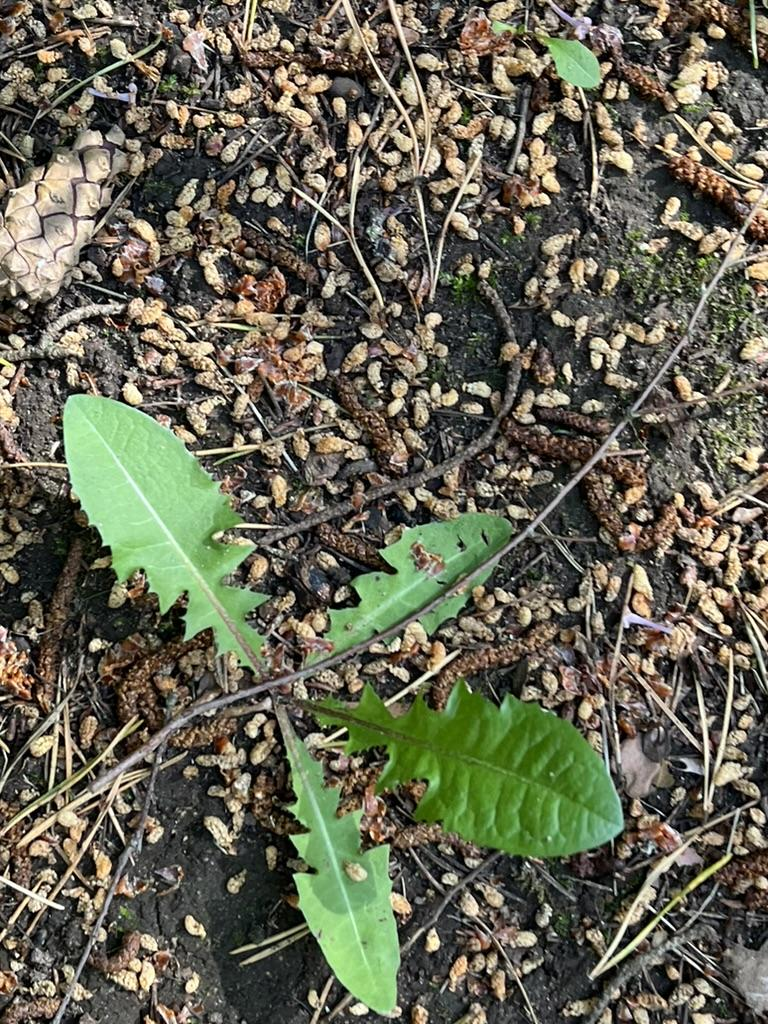pine: (0, 108, 151, 323)
